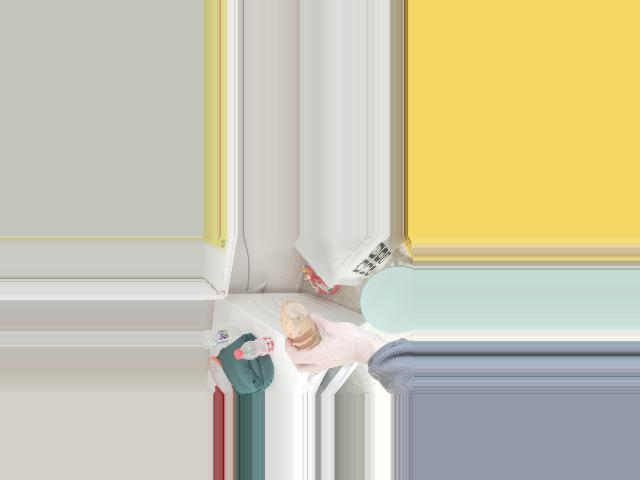sweet_potato: (278, 309, 321, 352)
